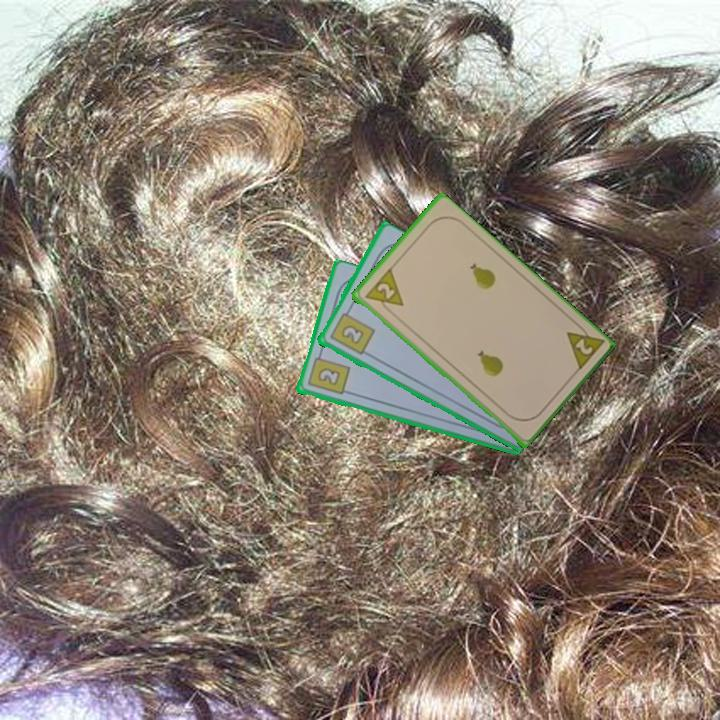2b: (326, 304, 377, 358), (304, 348, 352, 398)
2p: (562, 318, 606, 375), (361, 266, 406, 317)
